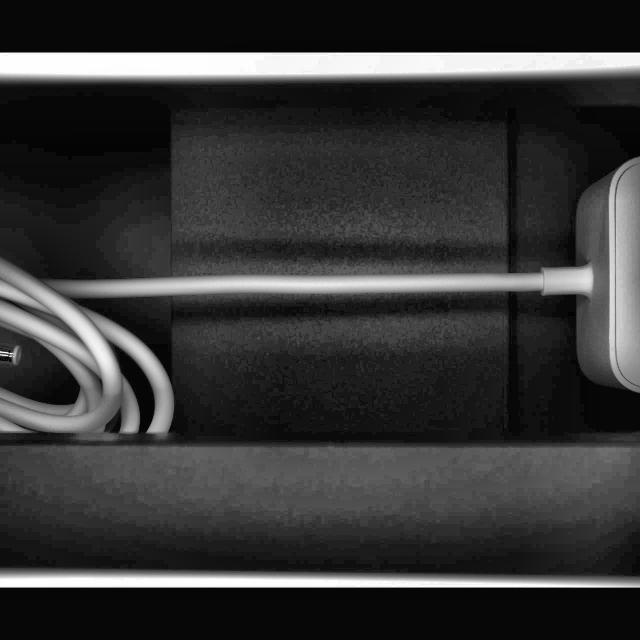Cable: (0, 154, 640, 439)
